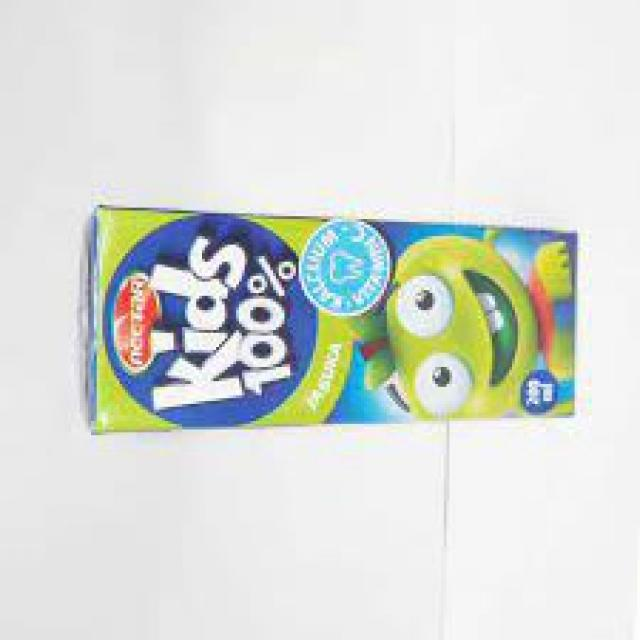non_white_jug: (76, 200, 580, 437)
